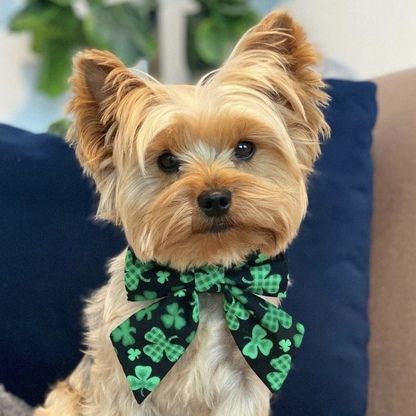yorkshire: (33, 10, 333, 416)
